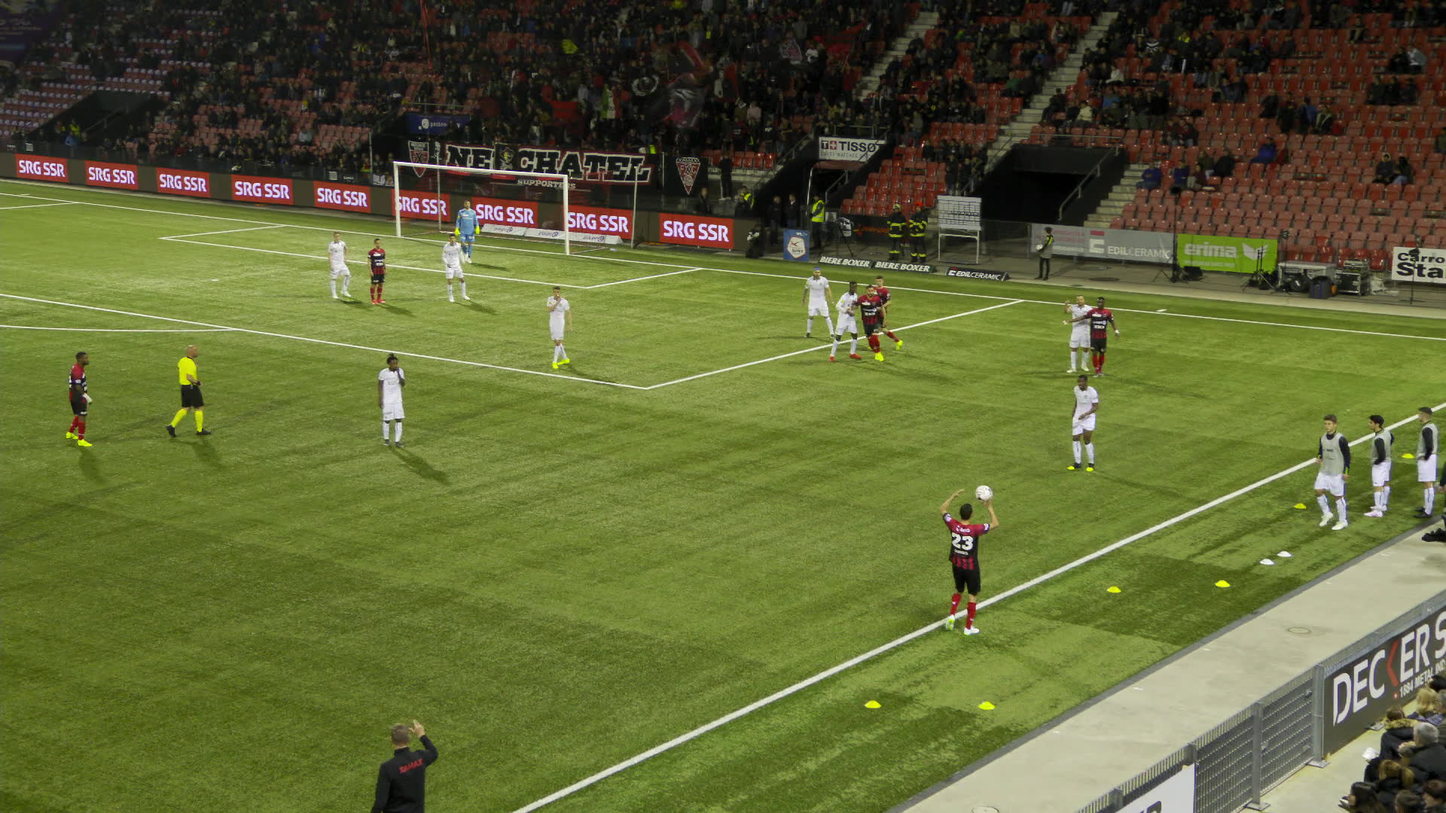ball: (975, 485, 990, 501)
player: (940, 483, 999, 632), (1064, 295, 1118, 377), (1066, 374, 1098, 473), (377, 353, 405, 449), (67, 350, 94, 446), (830, 279, 861, 362), (1063, 294, 1092, 373), (542, 286, 570, 367), (803, 266, 834, 339), (872, 275, 900, 349), (858, 285, 884, 362), (441, 234, 469, 301), (455, 199, 480, 261), (328, 230, 349, 298), (367, 238, 386, 303)
referee: (166, 345, 212, 437)
